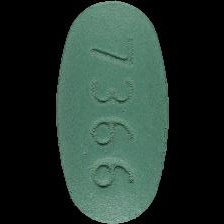68645-411: (0, 0, 224, 224)
